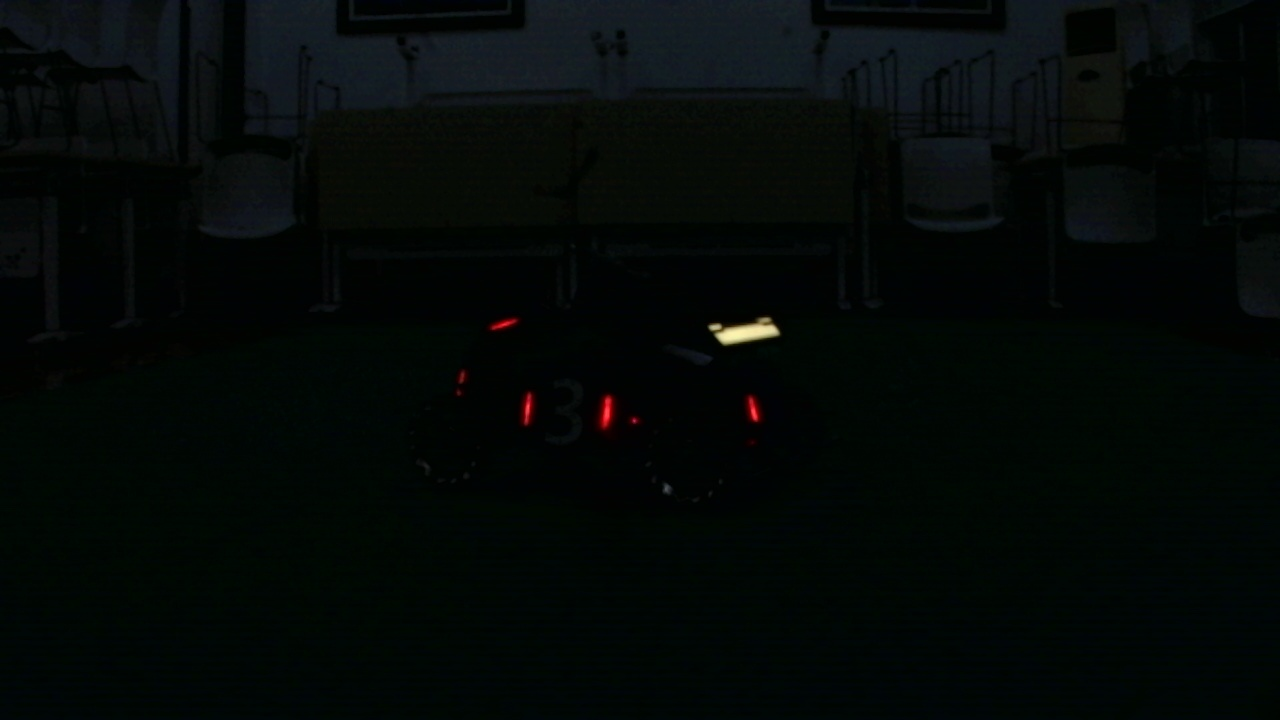lamp: (522, 392, 535, 431), (597, 393, 611, 423), (744, 391, 757, 421)
pair1: (518, 386, 613, 429)
